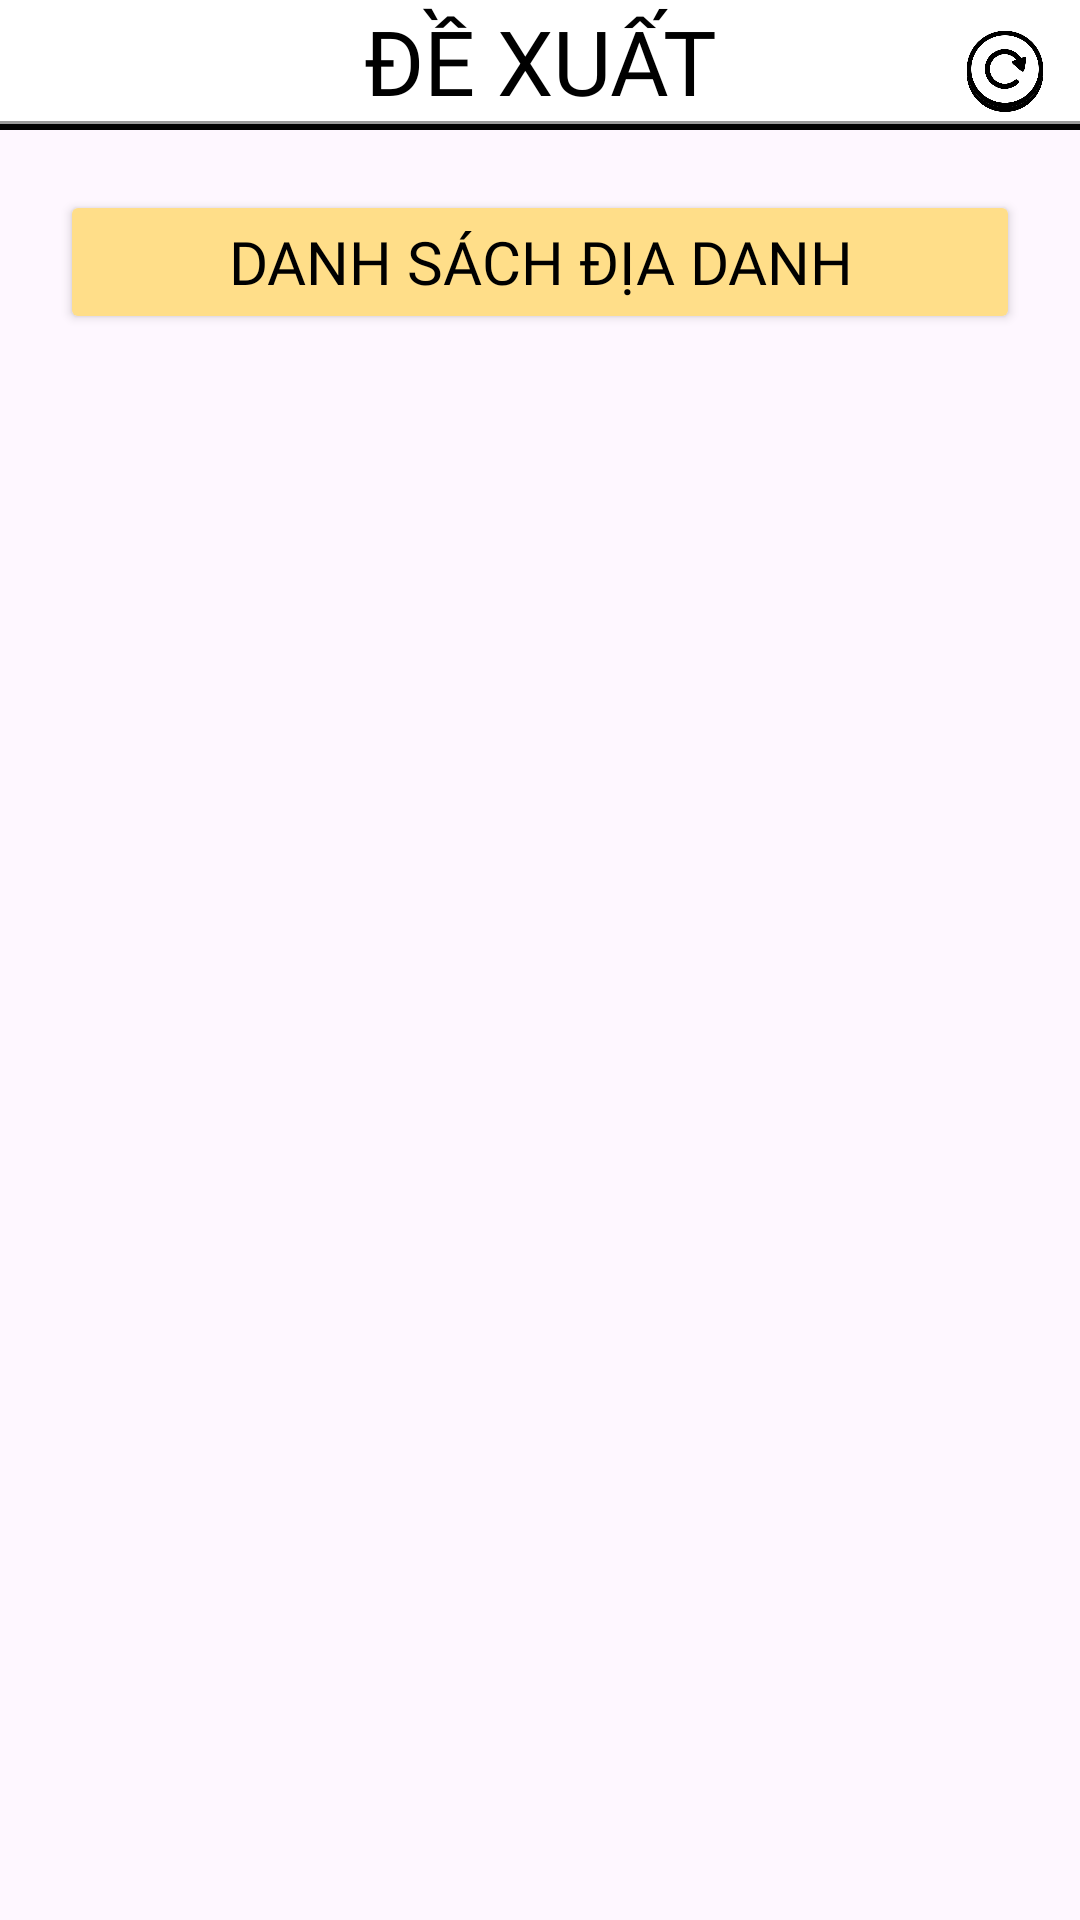

Named icons in this screenshot (1080px×1920px) and their centers, [x,y]:
reload: [1005,71]
